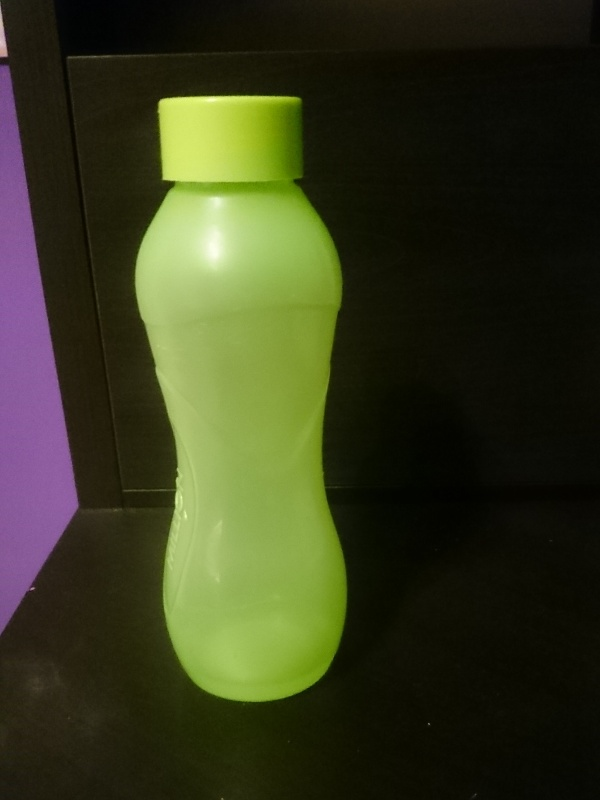my bottle: (133, 89, 345, 704)
